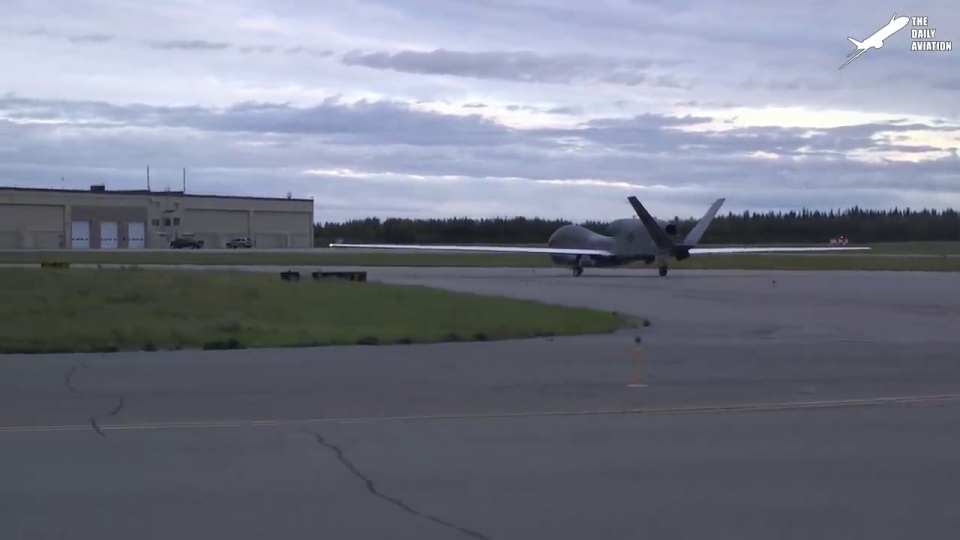military drone: (328, 196, 871, 276)
